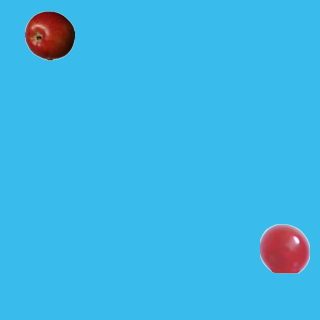Apple Braeburn: (24, 10, 74, 60)
Redcurrant: (259, 223, 309, 273)
